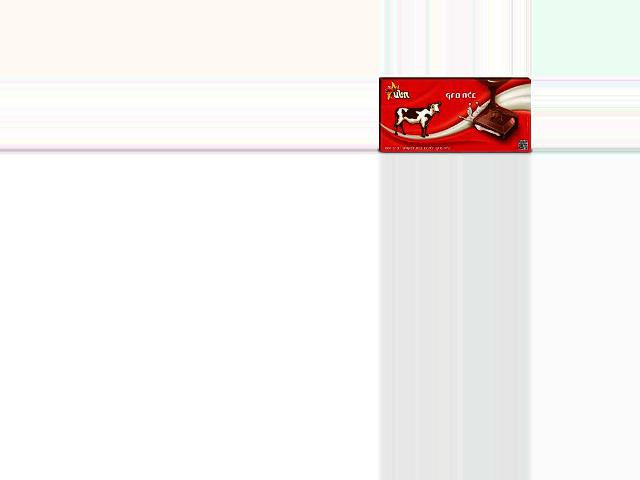chocolate: (376, 77, 530, 153)
